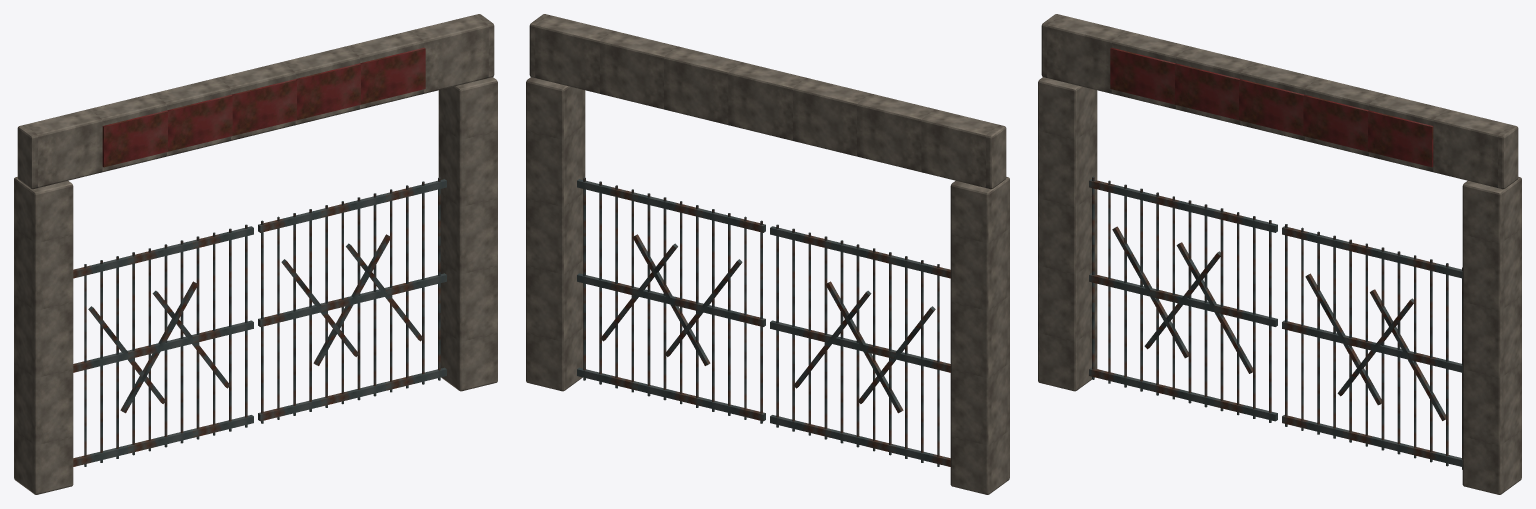
File: HM17_FactoryGate.glb
The picture shows the model from 3 angles, left to right: view 1: azimuth 30°, elevation 25°; view 2: azimuth 150°, elevation 25°; view 3: azimuth 330°, elevation 25°; orthographic projection.
Visible parts, largest first — view 1: HM17_FactoryGate; view 2: HM17_FactoryGate; view 3: HM17_FactoryGate.
Part boxes in pixels (left/top/right/bottom): HM17_FactoryGate: left=14, top=14, right=497, bottom=494; HM17_FactoryGate: left=526, top=14, right=1009, bottom=494; HM17_FactoryGate: left=1038, top=14, right=1521, bottom=494.
Size of the model in its own units: 6 by 4.42 by 0.5.
3 materials, 3 textured.
